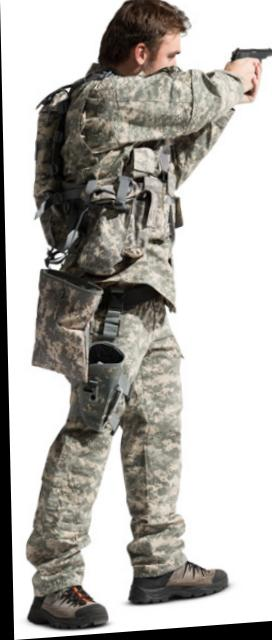other: (43, 0, 240, 626)
